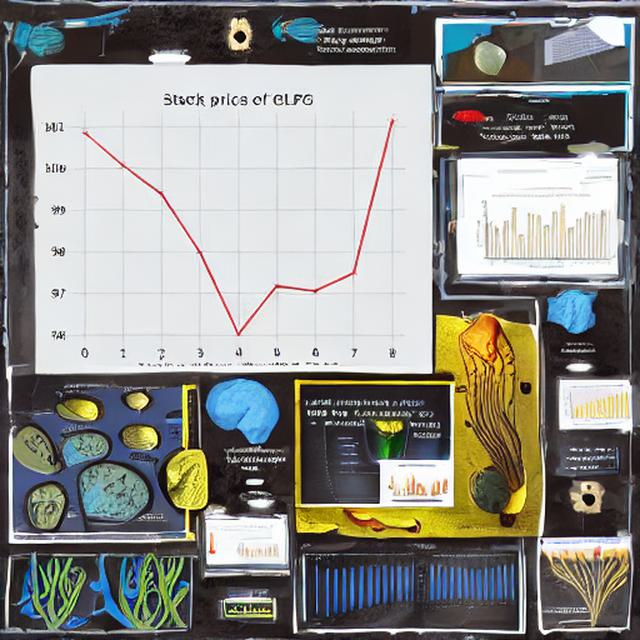Graph: (38, 74, 427, 366), (472, 191, 610, 273), (418, 552, 518, 612), (561, 383, 630, 423), (327, 471, 380, 504), (230, 538, 281, 560)
